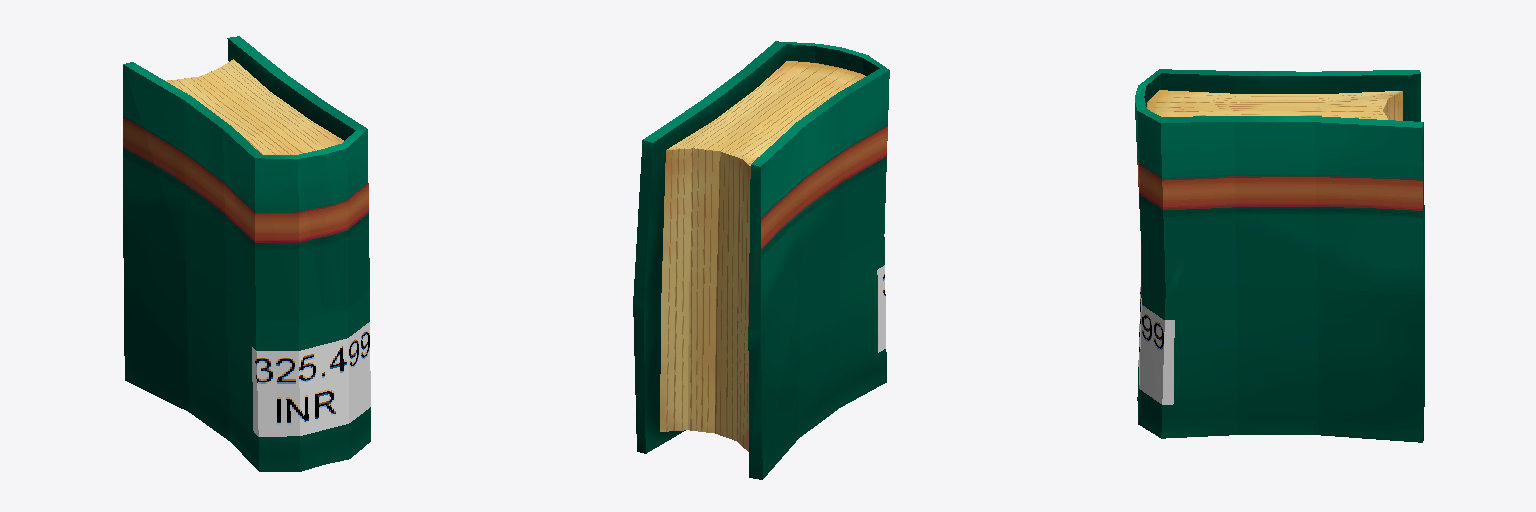
3 views of the same model, side by side, from view 1: azimuth 30°, elevation 25°; view 2: azimuth 150°, elevation 25°; view 3: azimuth 270°, elevation 25° (orthographic).
Visible parts, largest first — view 1: Cover.001, Pages.002; view 2: Cover.001, Pages.002; view 3: Cover.001, Pages.002.
Part boxes in pixels (x1,y1,x2,y2): Cover.001: (123, 36, 370, 471); Pages.002: (166, 59, 343, 154); Cover.001: (633, 41, 889, 479); Pages.002: (660, 61, 865, 451); Cover.001: (1135, 69, 1424, 442); Pages.002: (1147, 90, 1402, 120).
Bounding box in the file's own units: 2.93 × 7.05 × 5.85.
2 materials, 2 textured.